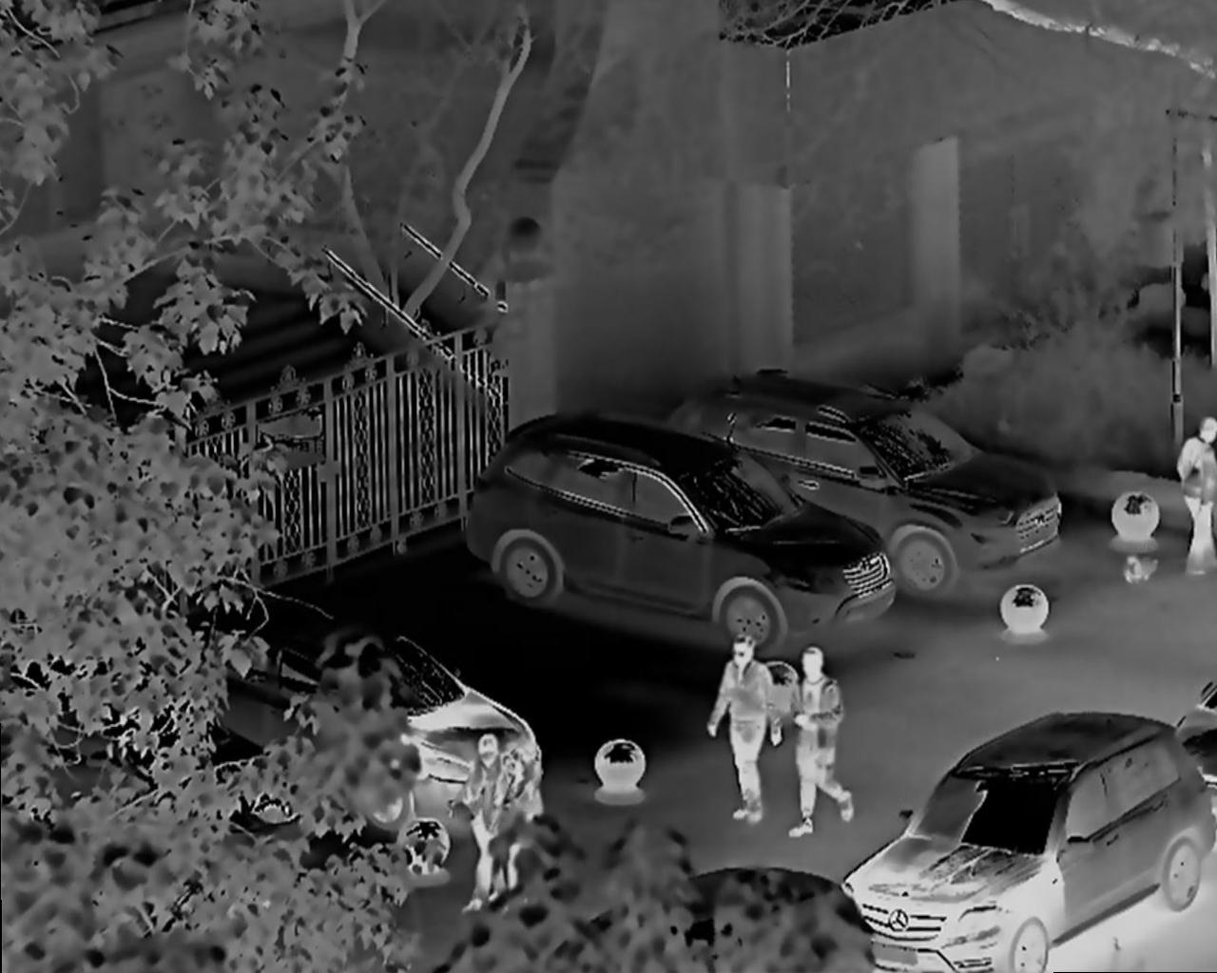person: (706, 628, 792, 824), (785, 639, 866, 829), (457, 733, 515, 889), (1169, 405, 1217, 578)
